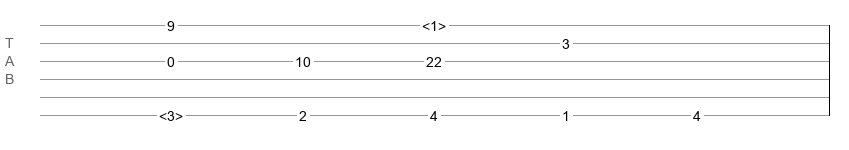0: (167, 54, 175, 64)
1: (562, 108, 570, 118)
10: (295, 54, 311, 64)
2: (299, 108, 307, 118)
22: (426, 54, 442, 64)
3: (562, 36, 570, 46)
4: (430, 108, 438, 118), (693, 108, 701, 118)
9: (167, 18, 175, 28)
harmonic: (159, 108, 183, 118), (422, 18, 446, 28)
